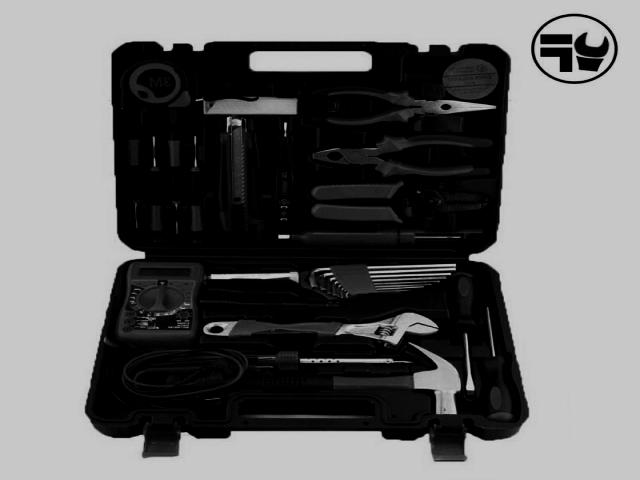Adjustable spanner: (202, 312, 439, 349)
Hammer: (241, 343, 461, 414)
Needle-nose pliers: (311, 85, 496, 127)
Pliers: (311, 134, 494, 178)
Screwdriver: (480, 306, 518, 423), (449, 272, 476, 397), (189, 135, 205, 244), (149, 130, 164, 242), (126, 128, 141, 229), (168, 129, 182, 235)
Tape measure: (120, 59, 192, 108)
Utility knife: (219, 116, 265, 246)
